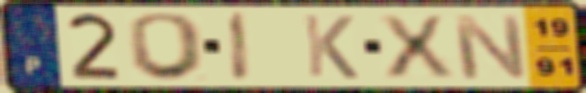2: (65, 12, 122, 81)
I: (226, 9, 253, 84)
K: (300, 12, 362, 81)
N: (448, 13, 531, 81)
O: (127, 11, 210, 83)
X: (374, 13, 459, 81)
